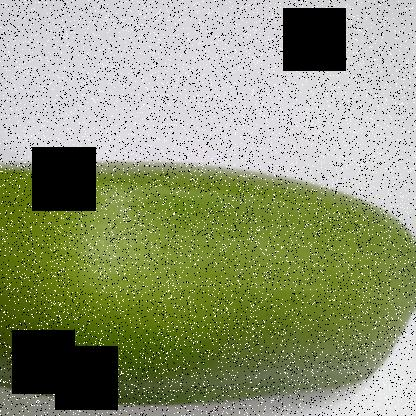freshunripe: (1, 148, 415, 414)
